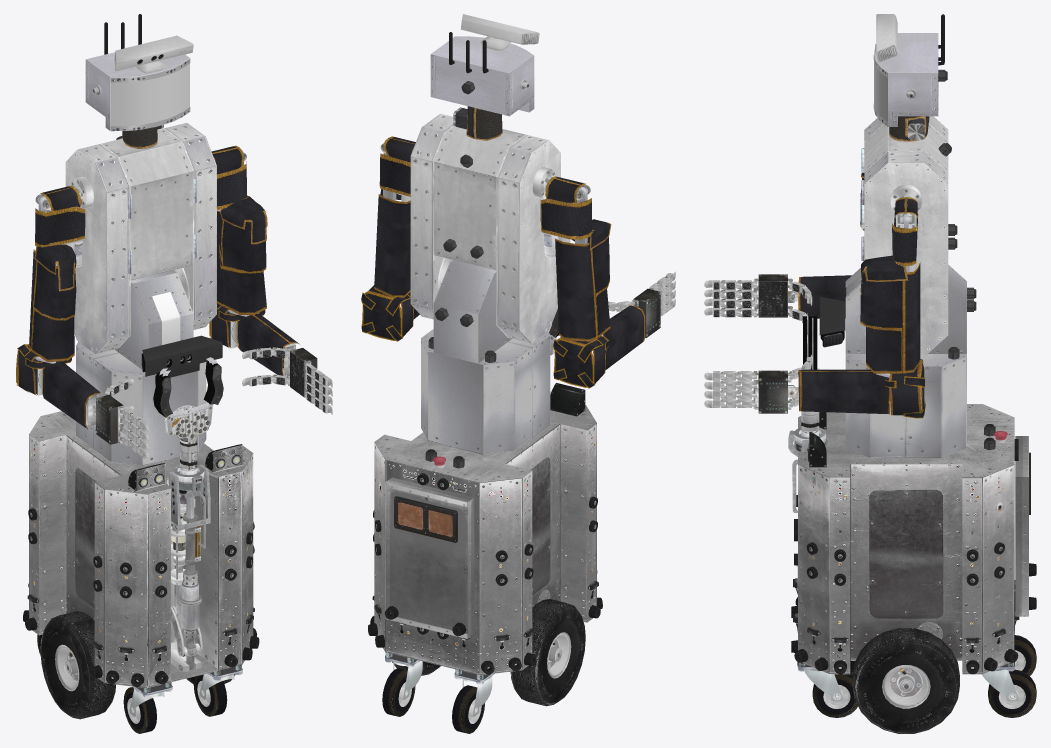
Rendered from valter.glb.
The picture shows the model from 3 angles, left to right: view 1: azimuth 30°, elevation 25°; view 2: azimuth 150°, elevation 25°; view 3: azimuth 270°, elevation 25°; orthographic projection. The views are drawn at different scales.
Visible parts, largest first — view 1: baseFrame, bodyFrame, shoulderFrameR, torsoFrame, armR, armL, rightWheel, shoulderFrameL, headGlass, headFrame, manipulatorLink2, forearmFrameR (+21 smaller); view 2: baseFrame, bodyFrame, shoulderFrameR, torsoFrame, armR, headFrame, rightWheel, shoulderFrameL, armL, forearmRollLinkR, forearmRollLinkL, forearmFrameR (+8 smaller); view 3: baseFrame, bodyFrame, shoulderFrameL, leftWheel, armL, headFrame, forearmFrameL, torsoFrame, forearmRollLinkL, palmL, smallWheelLR, forearmFrameR (+10 smaller).
Boxes of the visible parts, left/top/right/bottom form: baseFrame: left=23, top=411, right=259, bottom=697; bodyFrame: left=76, top=270, right=222, bottom=466; shoulderFrameR: left=65, top=144, right=131, bottom=353; torsoFrame: left=100, top=128, right=194, bottom=348; armR: left=29, top=196, right=85, bottom=361; armL: left=217, top=161, right=267, bottom=315; rightWheel: left=40, top=611, right=115, bottom=719; shoulderFrameL: left=165, top=123, right=216, bottom=329; headGlass: left=110, top=59, right=189, bottom=126; headFrame: left=85, top=14, right=190, bottom=131; manipulatorLink2: left=168, top=464, right=210, bottom=670; forearmFrameR: left=42, top=361, right=100, bottom=429; baseFrame: left=368, top=405, right=602, bottom=684; bodyFrame: left=421, top=260, right=550, bottom=454; shoulderFrameR: left=497, top=135, right=560, bottom=343; torsoFrame: left=433, top=125, right=526, bottom=337; armR: left=540, top=187, right=611, bottom=341; headFrame: left=430, top=32, right=534, bottom=116; rightWheel: left=510, top=599, right=585, bottom=706; shoulderFrameL: left=410, top=113, right=453, bottom=319; armL: left=374, top=153, right=410, bottom=297; forearmRollLinkR: left=553, top=334, right=609, bottom=388; forearmRollLinkL: left=361, top=285, right=413, bottom=341; forearmFrameR: left=603, top=305, right=645, bottom=370; baseFrame: left=791, top=404, right=1036, bottom=674; bodyFrame: left=819, top=265, right=976, bottom=457; shoulderFrameL: left=861, top=151, right=948, bottom=356; leftWheel: left=852, top=628, right=959, bottom=733; armL: left=860, top=214, right=920, bottom=373; headFrame: left=873, top=14, right=947, bottom=126; forearmFrameL: left=796, top=369, right=889, bottom=414; torsoFrame: left=864, top=123, right=957, bottom=249; forearmRollLinkL: left=876, top=359, right=925, bottom=418; palmL: left=753, top=370, right=794, bottom=413; smallWheelLR: left=988, top=669, right=1036, bottom=717; forearmFrameR: left=796, top=275, right=851, bottom=318.
Bounding box in the file's own units: 0.6951 × 1.87 × 0.8337.
28 materials, 26 textured.
